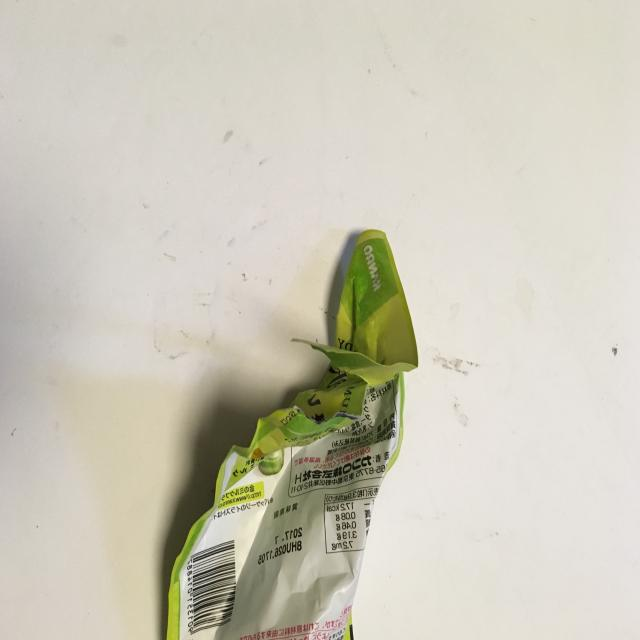plastic: (165, 227, 418, 640)
